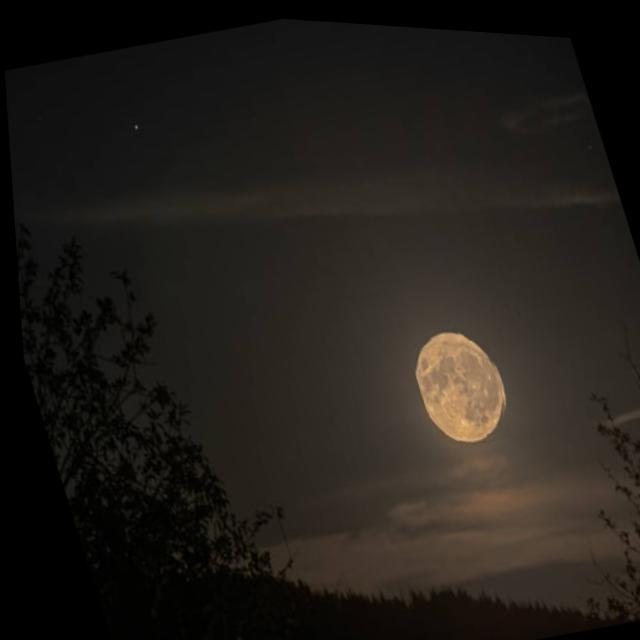moon: (398, 312, 514, 450)
